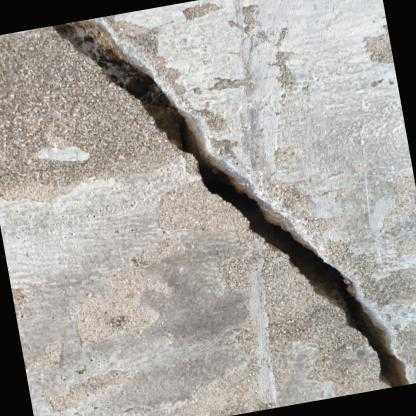crack: (49, 18, 411, 388)
